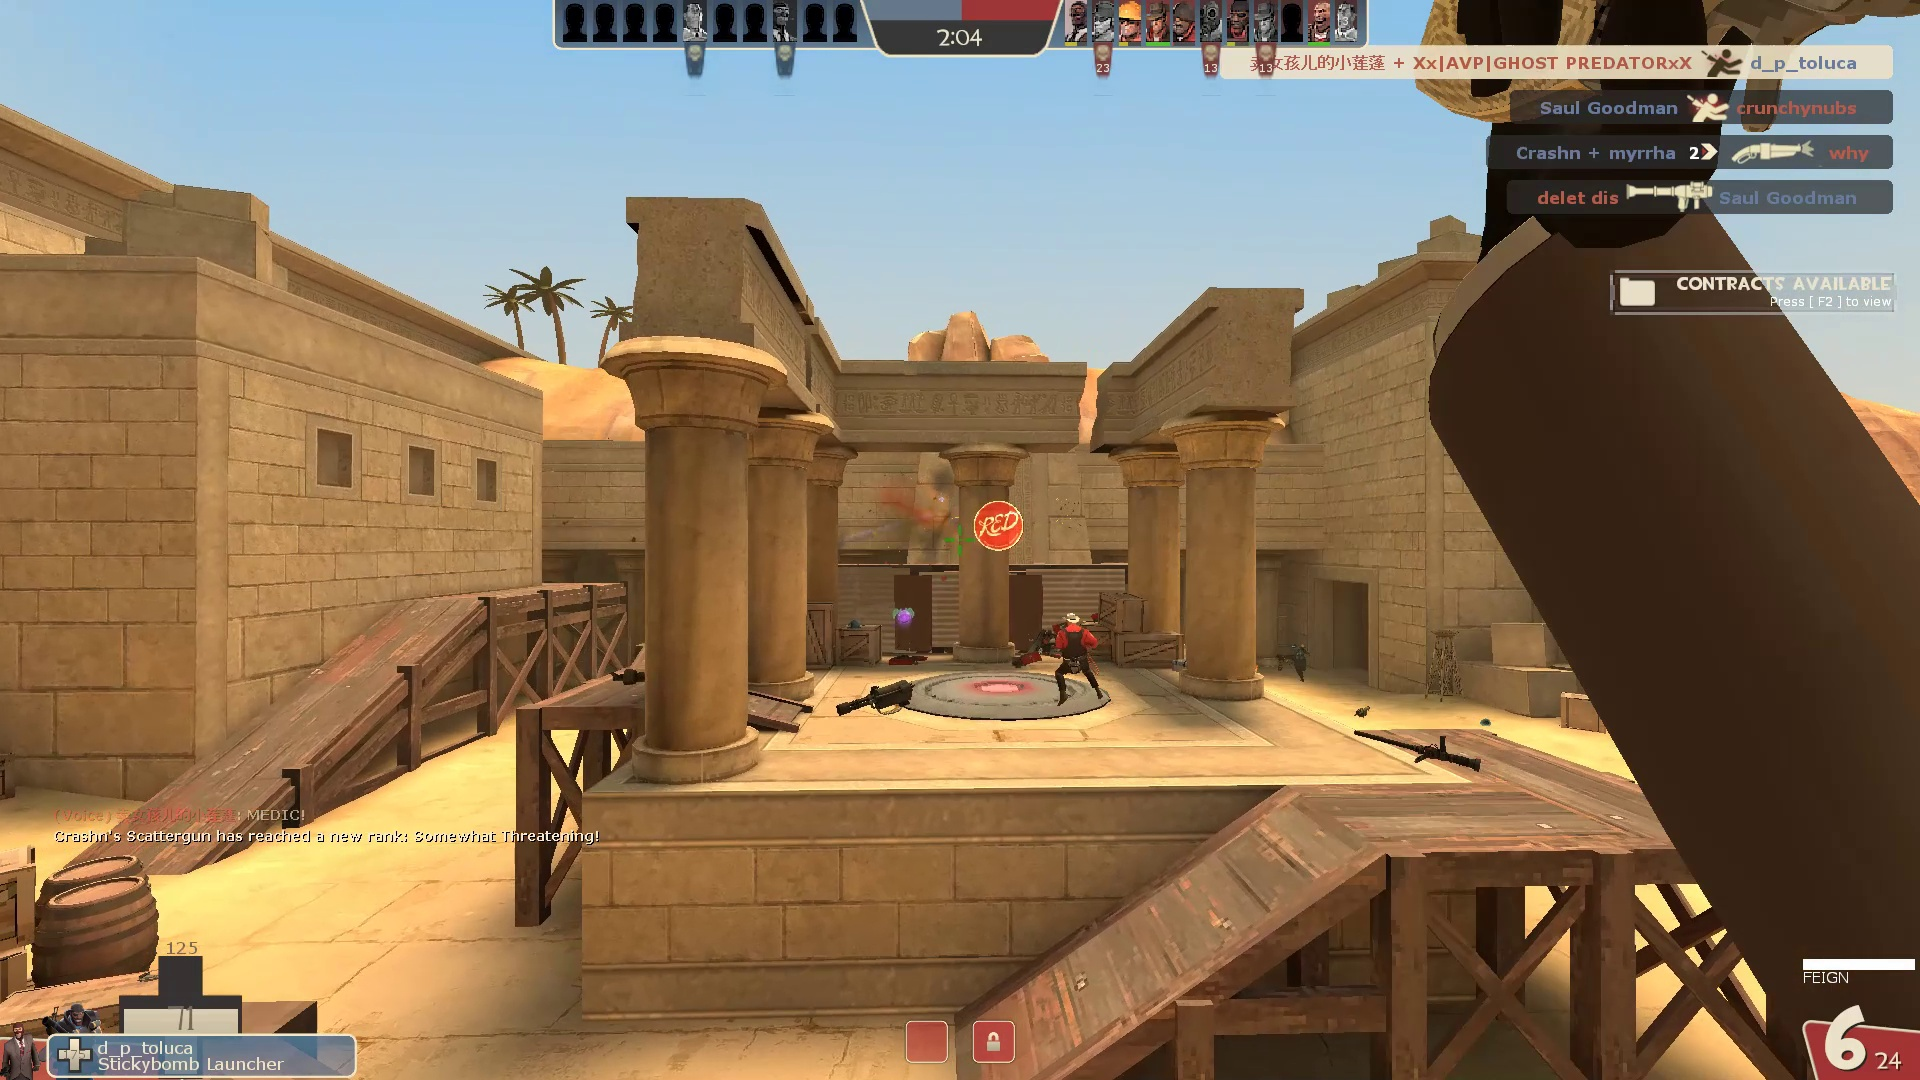blu_pyro: (1274, 640, 1313, 691)
red_engineer: (1039, 611, 1109, 709)
